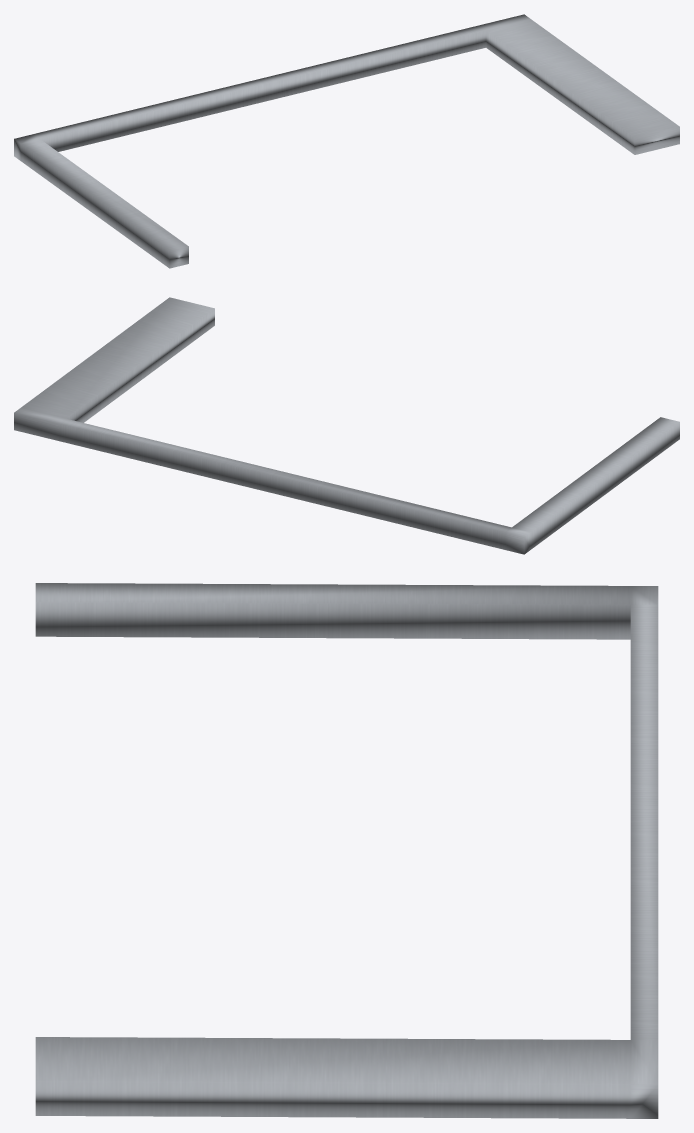
The model's file is SM_191_Entrance_Door_03_1.fbx.
3 renders of one model, top to bottom at view 1: azimuth 30°, elevation 25°; view 2: azimuth 150°, elevation 25°; view 3: azimuth 270°, elevation 25°, orthographic. The views are drawn at different scales.
Visible parts, largest first — view 1: SM_191_Entrance_Door_03_1; view 2: SM_191_Entrance_Door_03_1; view 3: SM_191_Entrance_Door_03_1.
Boxes of the visible parts, <box> form: SM_191_Entrance_Door_03_1: <box>14,14,679,268</box>; SM_191_Entrance_Door_03_1: <box>14,297,679,554</box>; SM_191_Entrance_Door_03_1: <box>35,583,658,1118</box>.
Bounding box in the file's own units: 230 × 122 × 8.16.
1 material, 1 textured.
